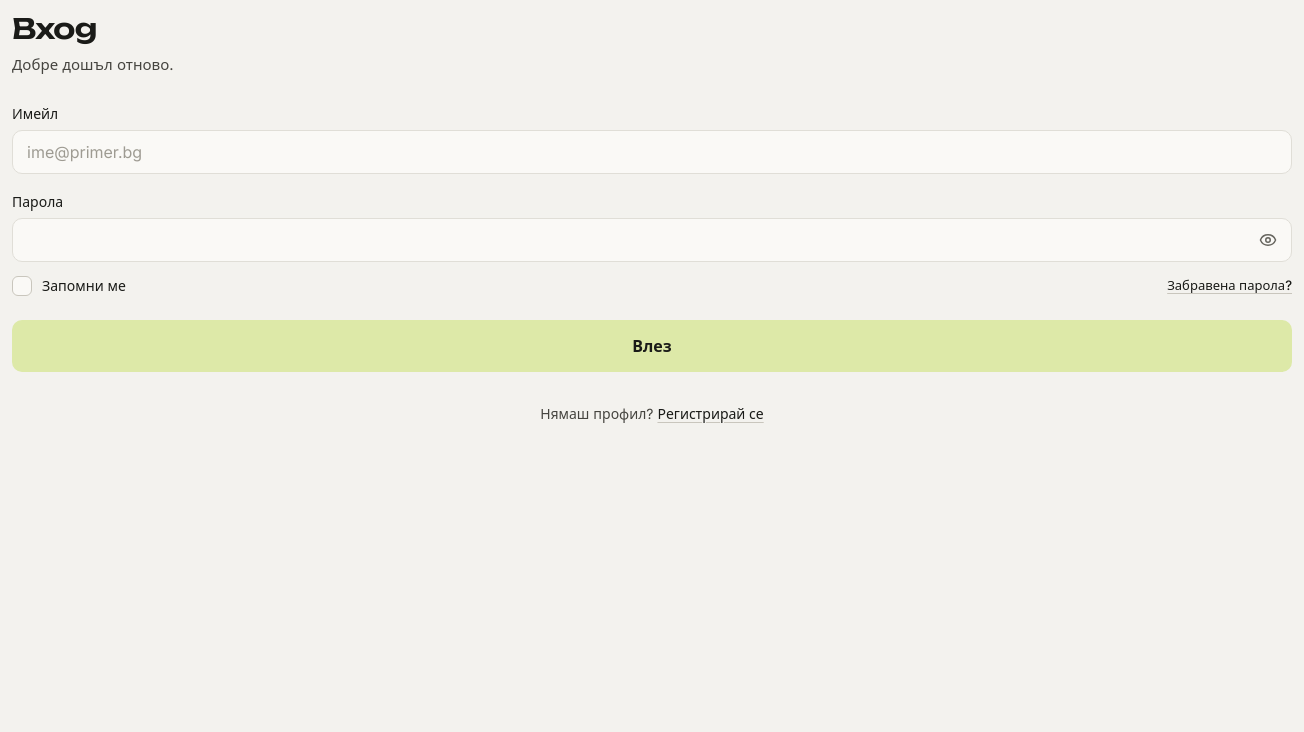
Test: LoginPage › offers a new confirmation link for an unconfirmed email (403)
This screenshot has width=1304, height=732.
Type "anna@body4u.bg" into the field labelled "Имейл" at (652, 152), box [12, 130, 1292, 174]
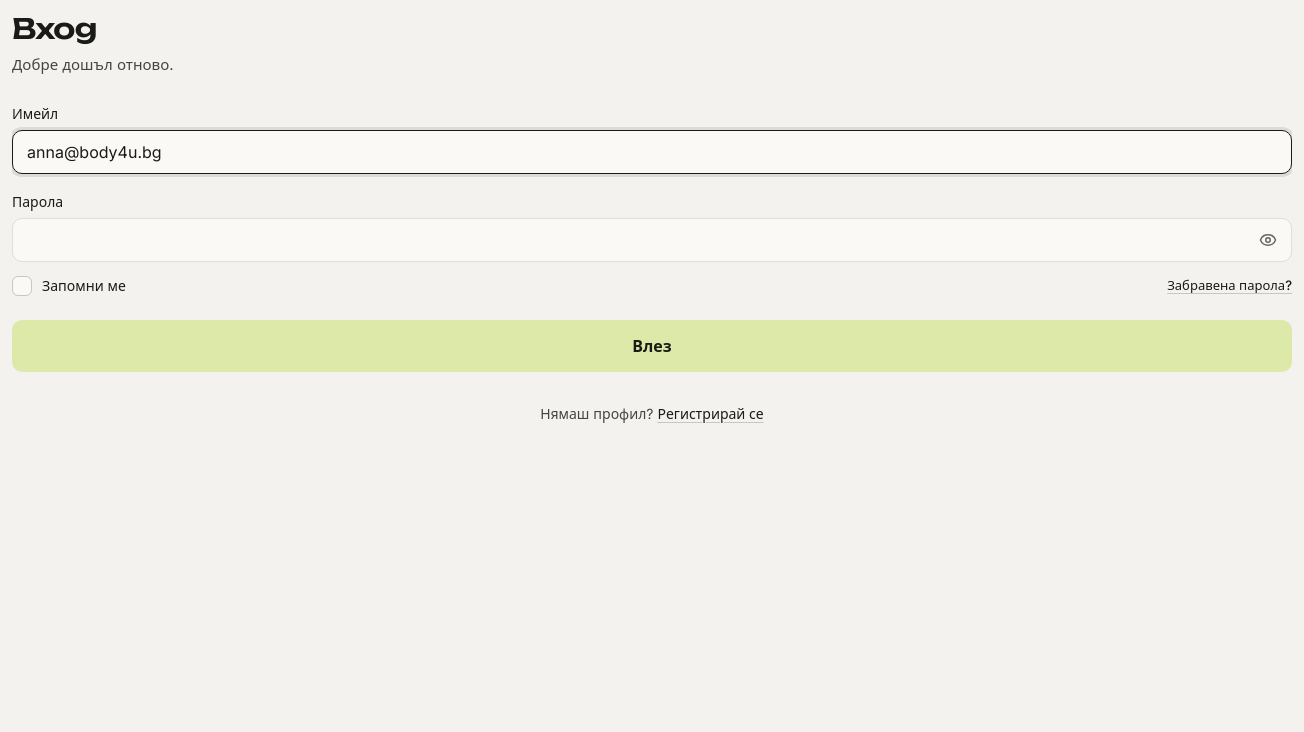
Type "Parola1!" into the password field labelled "Парола" at (652, 240), box [12, 218, 1292, 262]
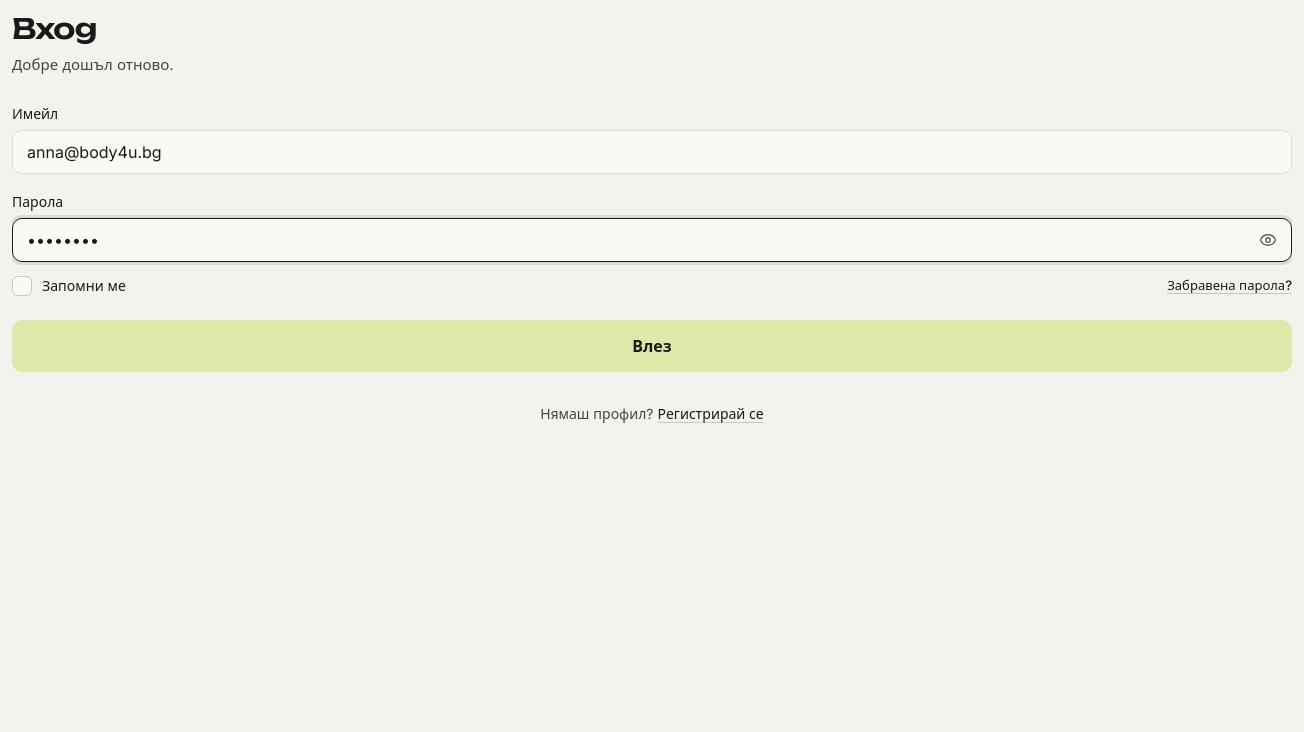
Click the button "Влез" at (652, 346), box [12, 320, 1292, 372]
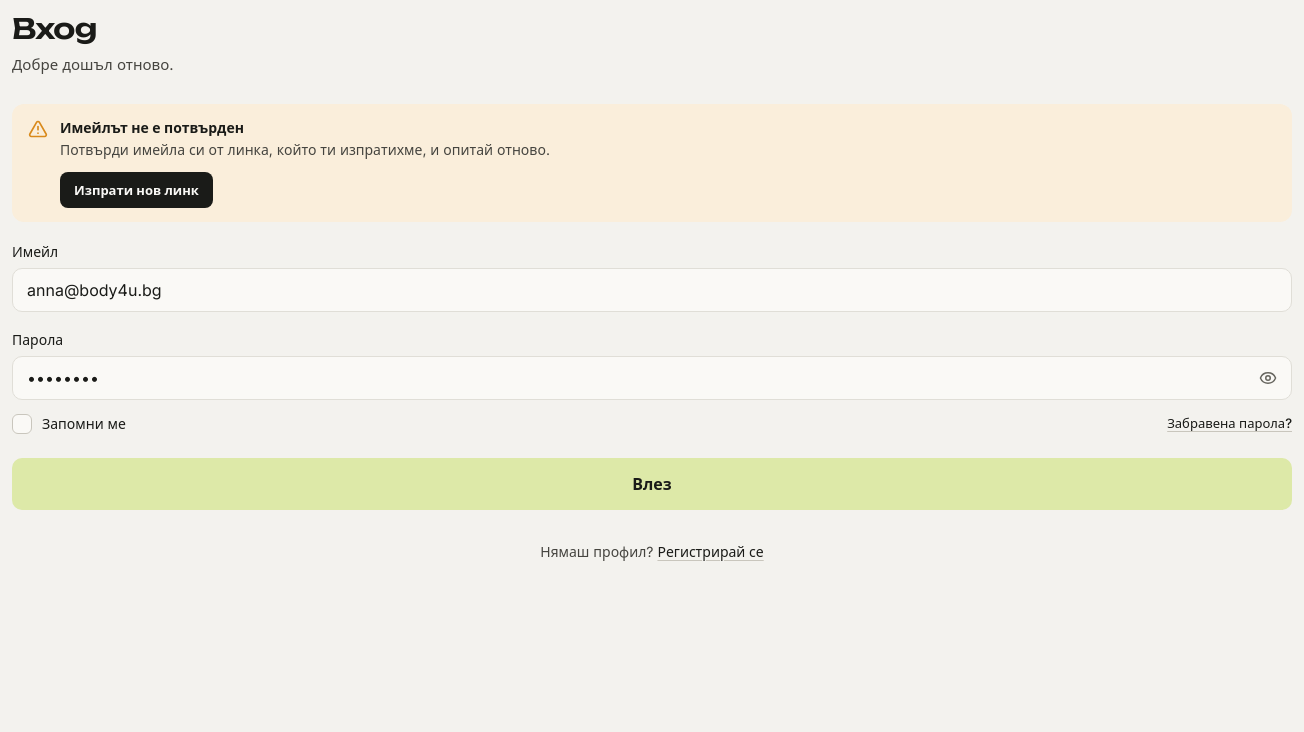
Click the button "Изпрати нов линк" at (136, 190), box [60, 172, 213, 208]
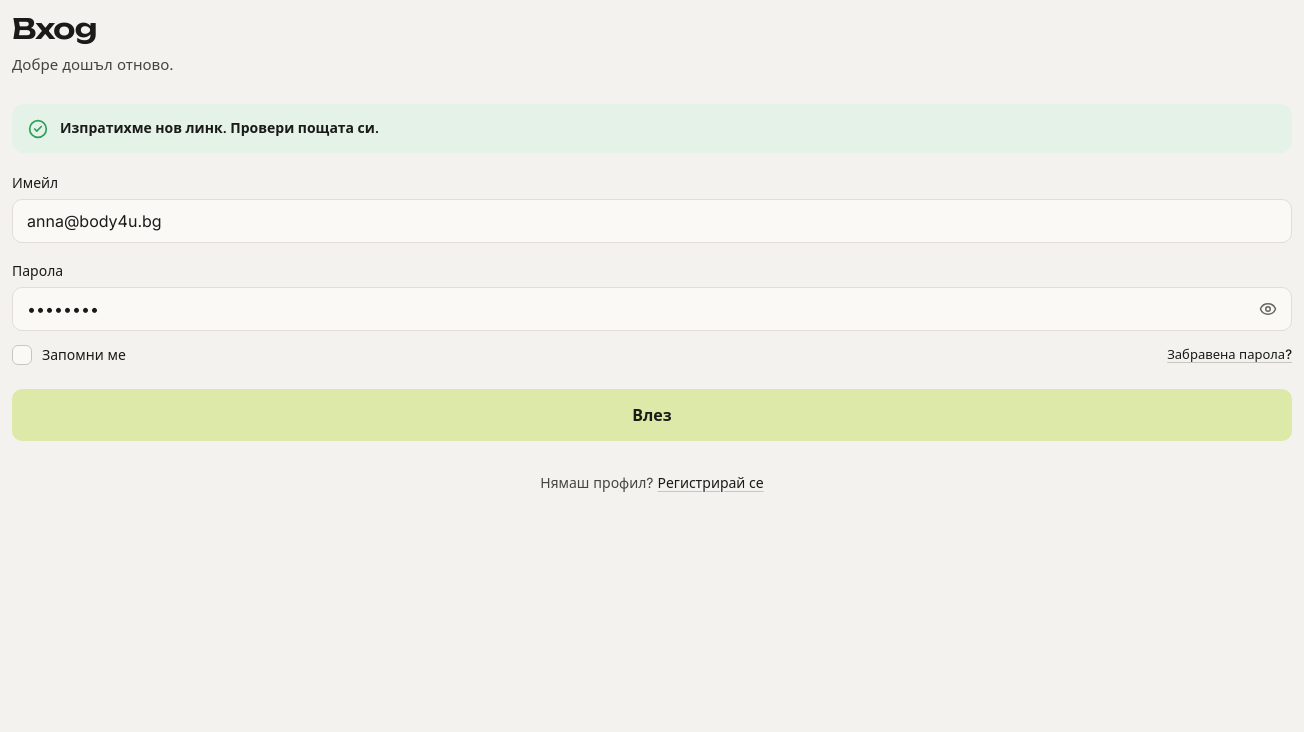
expect the text "Изпратихме нов линк. Провери пощата си." is shown: met, box [60, 119, 379, 136]
